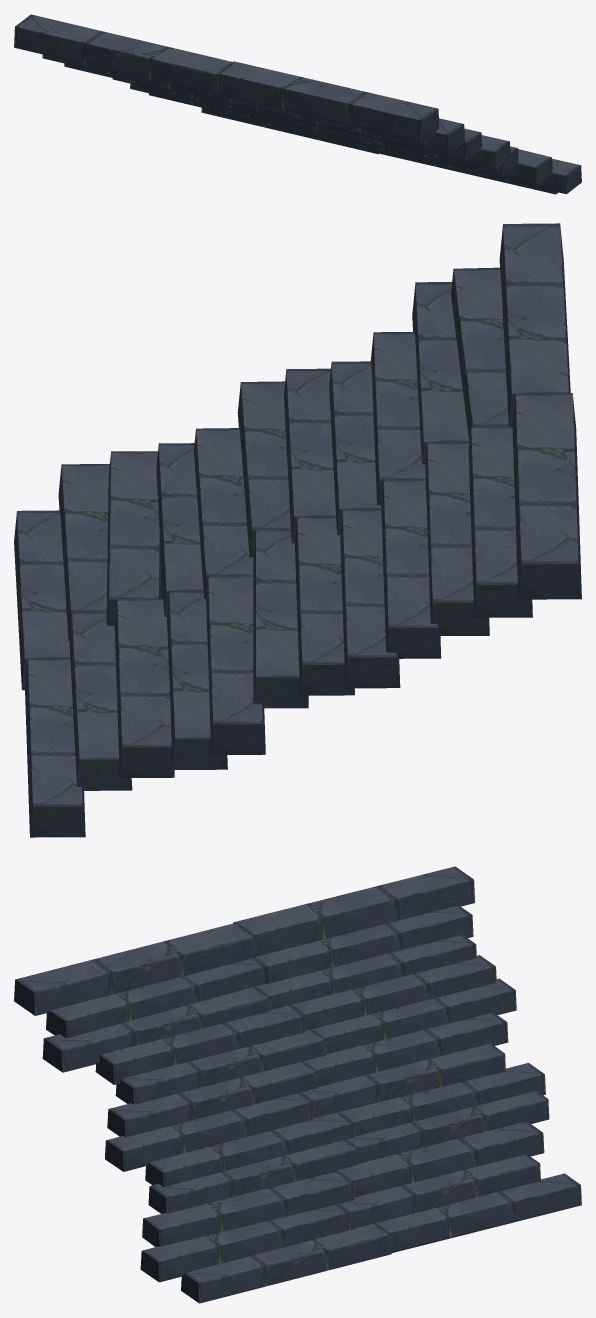
File: Area_04_9.fbx
The picture shows the model from 3 angles, top to bottom: view 1: azimuth 30°, elevation 25°; view 2: azimuth 150°, elevation 25°; view 3: azimuth 270°, elevation 25°; orthographic projection. The views are drawn at different scales.
Parts seen in each view (by area): view 1: Area_04_9; view 2: Area_04_9; view 3: Area_04_9.
Part boxes in pixels (x1,y1,x2,y2): Area_04_9: [14, 14, 581, 194]; Area_04_9: [14, 223, 581, 837]; Area_04_9: [14, 866, 581, 1303].
Size of the model in its own units: 1746 by 676 by 1751.
